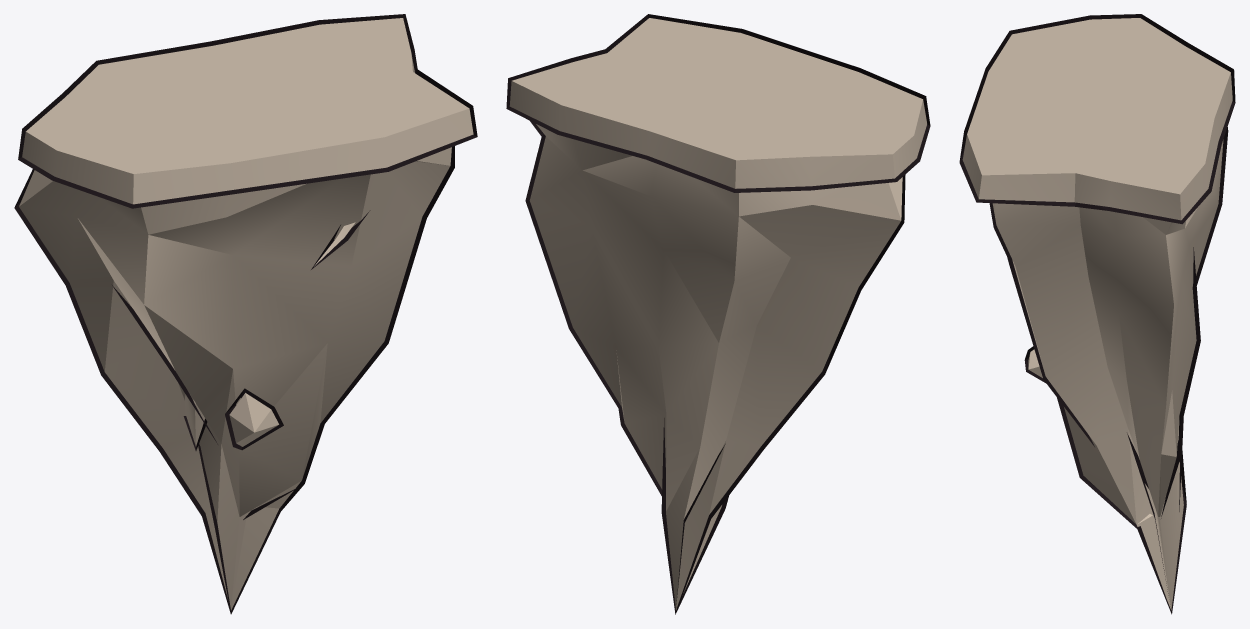
File: SM_Trail_Islet_05.fbx
3 renders of one model, left to right at view 1: azimuth 30°, elevation 25°; view 2: azimuth 150°, elevation 25°; view 3: azimuth 270°, elevation 25°, orthographic. The views are drawn at different scales.
Parts seen in each view (by area): view 1: SM_Trail_Islet_05; view 2: SM_Trail_Islet_05; view 3: SM_Trail_Islet_05.
Part boxes in pixels (<box>): SM_Trail_Islet_05: <box>14,14,477,614</box>; SM_Trail_Islet_05: <box>506,14,930,614</box>; SM_Trail_Islet_05: <box>959,14,1235,614</box>.
Size of the model in its own units: 13.94 by 17.78 by 8.85.
